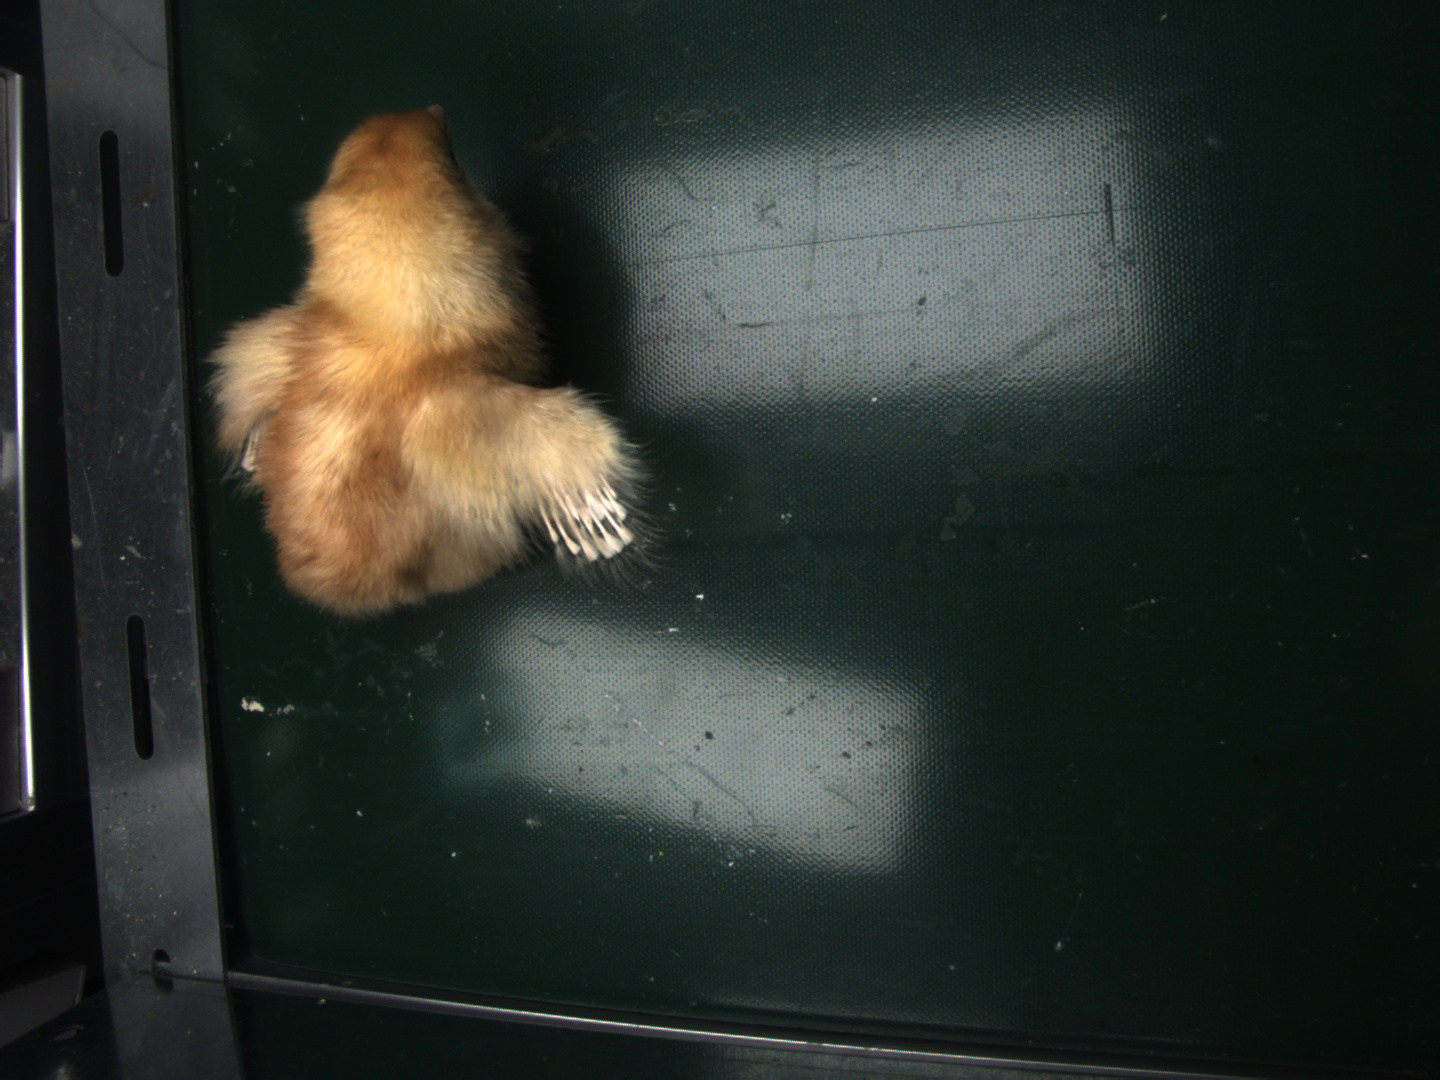female: (541, 478, 637, 562)
